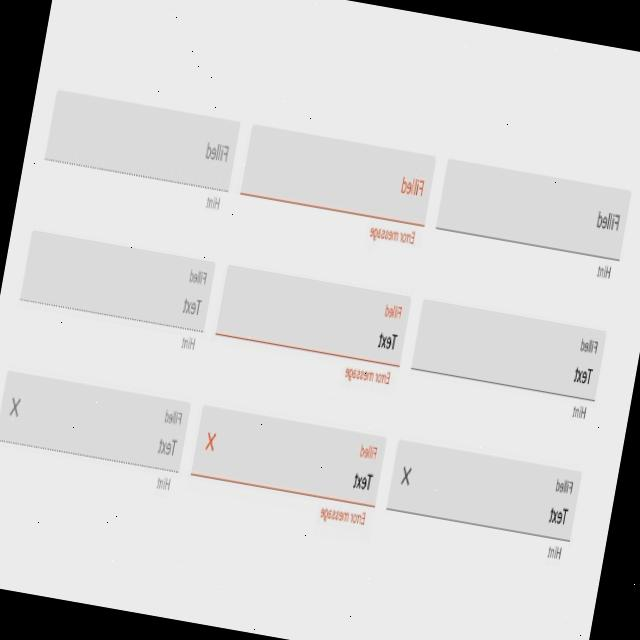VTextField: (233, 120, 438, 248), (210, 260, 413, 388), (185, 401, 389, 528), (41, 86, 242, 214), (14, 228, 217, 354), (381, 436, 584, 562), (432, 155, 634, 281), (407, 297, 608, 422), (0, 368, 192, 497)
